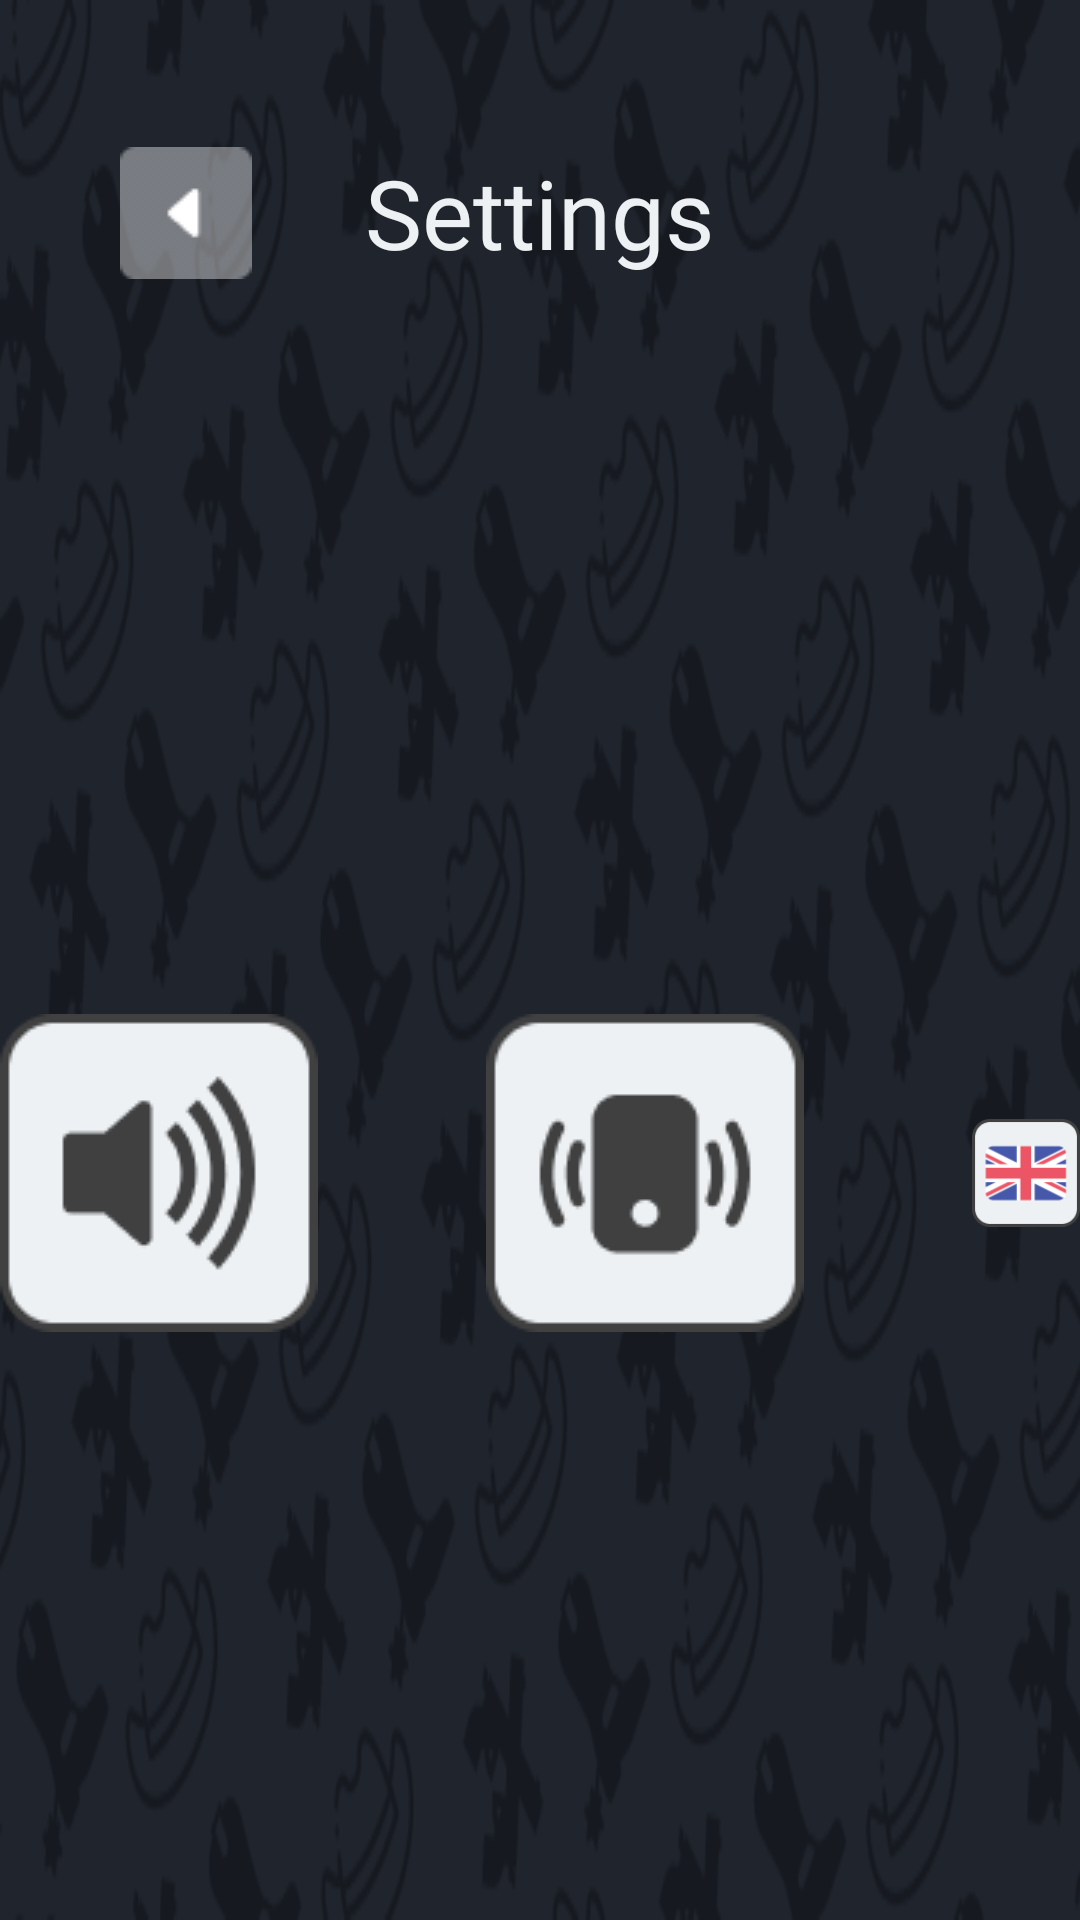

Point at icon controls on the screen. Image size 1080px x 1920px, points as (x=x, y=y).
back: (x=186, y=213)
lang en: (x=1026, y=1173)
sound on: (x=159, y=1173)
vibration on: (x=645, y=1173)
